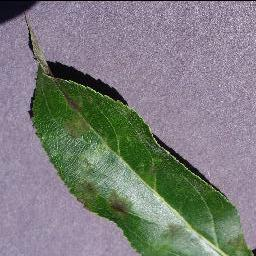apple healthy: (22, 11, 255, 255)
